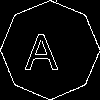A: (25, 25, 59, 70)
